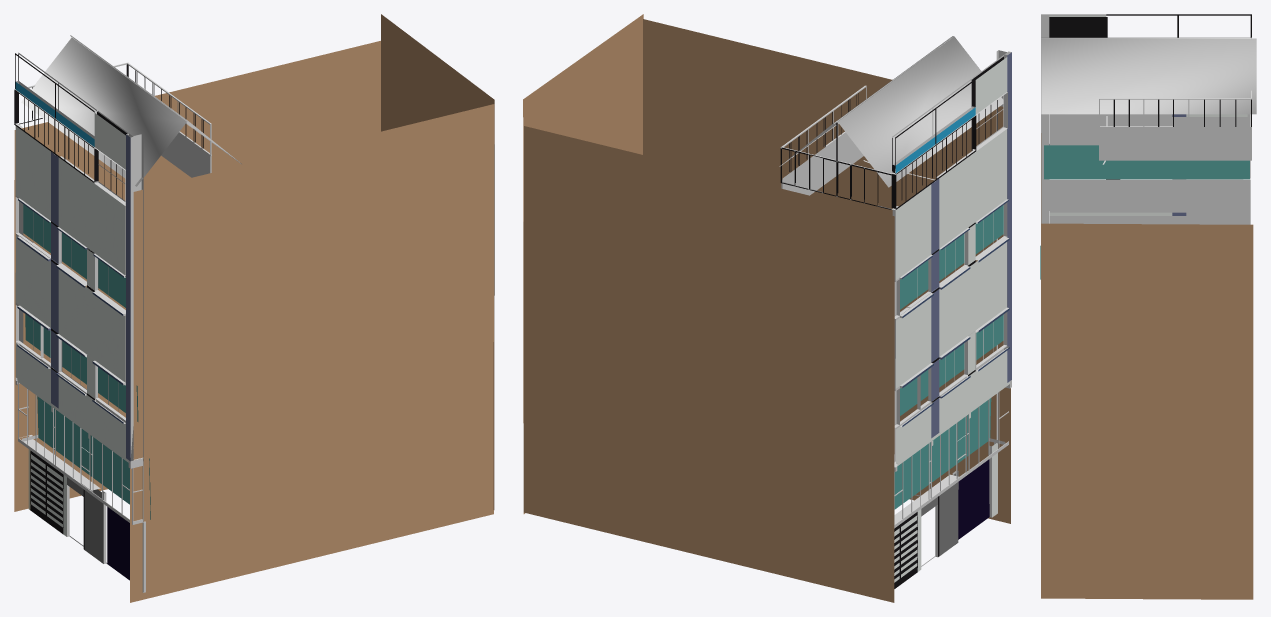
File: sauna.glb
The picture shows the model from 3 angles, left to right: view 1: azimuth 30°, elevation 25°; view 2: azimuth 150°, elevation 25°; view 3: azimuth 270°, elevation 25°; orthographic projection. The views are drawn at different scales.
Visible parts, largest first — view 1: Plane, Cube.002, Plane.003, Plane.002, Plane.001, Plane.004; view 2: Plane, Cube.002, Plane.003, Plane.002, Plane.001, Plane.004; view 3: Plane, Cube.002, Plane.002.
Boxes of the visible parts, x1,y1,x2,y2 form: Plane: [14, 14, 494, 602]; Cube.002: [14, 35, 241, 592]; Plane.003: [37, 396, 150, 519]; Plane.002: [23, 204, 125, 307]; Plane.001: [25, 314, 138, 421]; Plane.004: [107, 507, 129, 580]; Plane: [523, 14, 1010, 602]; Cube.002: [779, 36, 1011, 588]; Plane.003: [894, 398, 991, 509]; Plane.002: [900, 205, 1003, 309]; Plane.001: [900, 314, 1003, 415]; Plane.004: [958, 459, 989, 539]; Plane: [1041, 133, 1253, 599]; Cube.002: [1041, 14, 1256, 224]; Plane.002: [1044, 145, 1249, 179].
Bounding box in the file's own units: 32.06 × 38.82 × 17.79.
